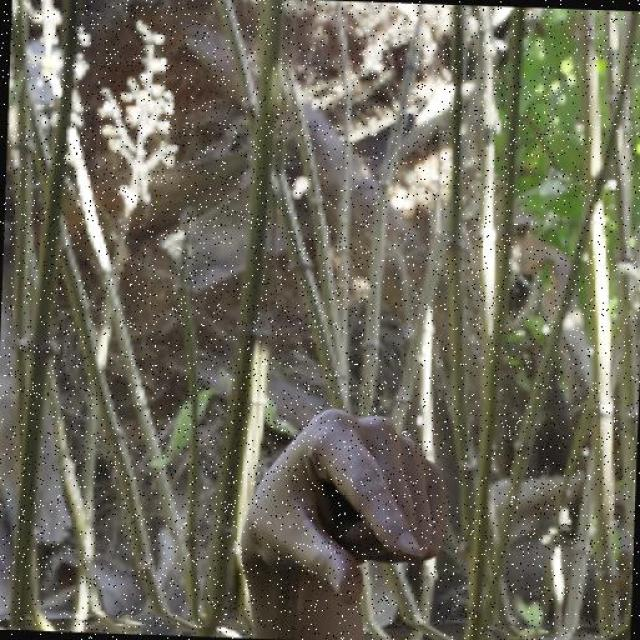Q: (233, 402, 457, 612)
